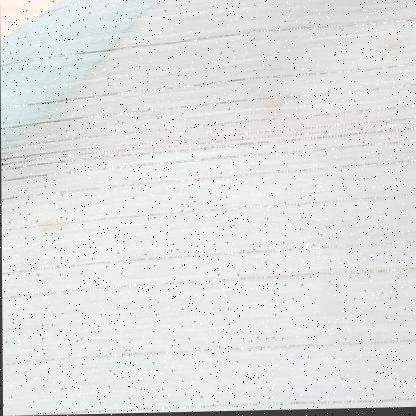spot: (361, 31, 404, 58), (30, 218, 64, 236), (259, 95, 286, 115)
